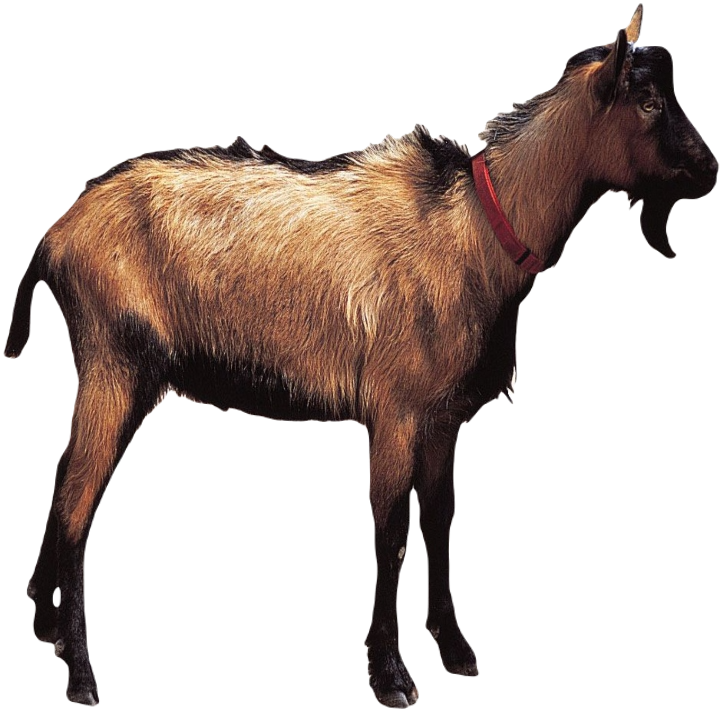Goat: (3, 0, 719, 708)
